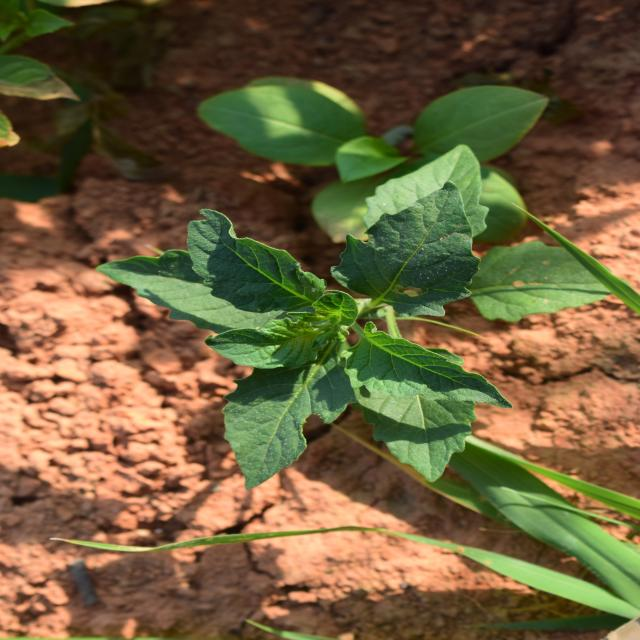Black_nightshade: (169, 133, 435, 513)
